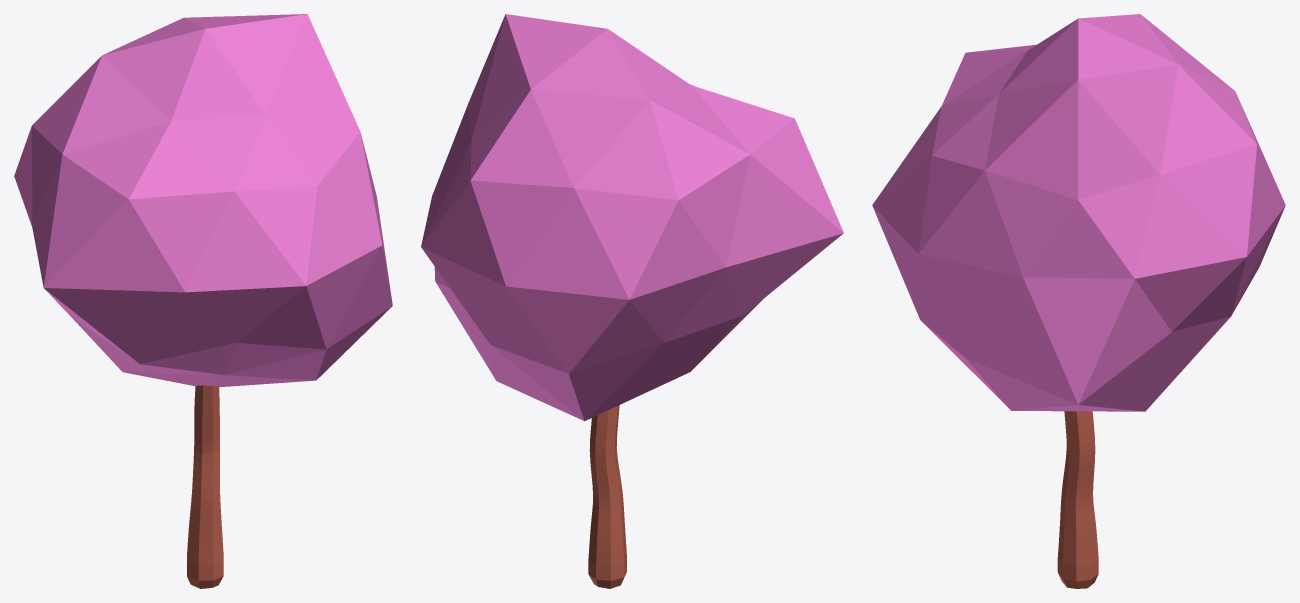
Rendered from sakura1.fbx.
3 renders of one model, left to right at view 1: azimuth 30°, elevation 25°; view 2: azimuth 150°, elevation 25°; view 3: azimuth 270°, elevation 25°, orthographic.
Parts seen in each view (by area): view 1: sakura1; view 2: sakura1; view 3: sakura1.
Part boxes in pixels (bbox=[...]): sakura1: bbox=[14, 14, 392, 588]; sakura1: bbox=[421, 14, 843, 588]; sakura1: bbox=[872, 14, 1285, 588].
Size of the model in its own units: 721 by 1035 by 682.
